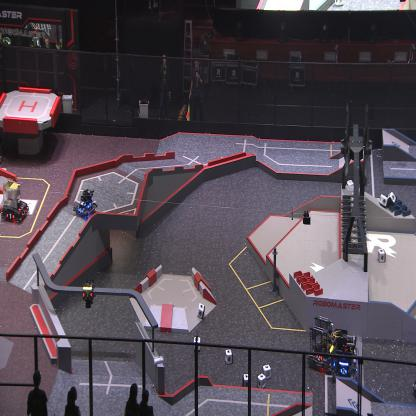car: (331, 328, 359, 384), (307, 316, 334, 372), (0, 180, 30, 224), (72, 188, 98, 218)
